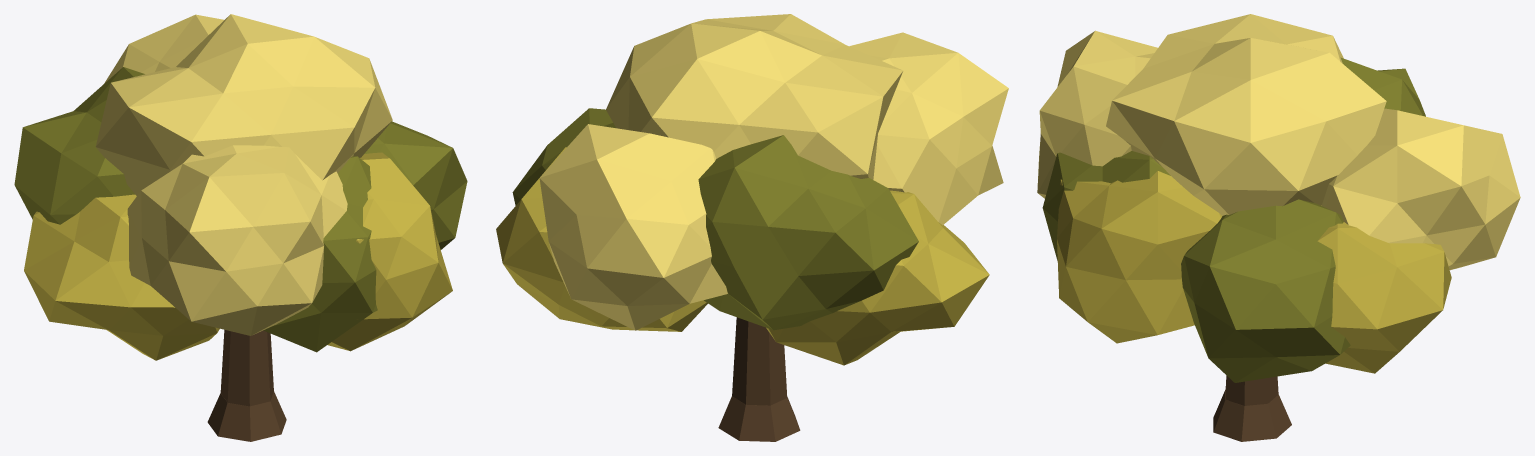
File: tree_oak_4.glb
3 renders of one model, left to right at view 1: azimuth 30°, elevation 25°; view 2: azimuth 150°, elevation 25°; view 3: azimuth 270°, elevation 25°, orthographic. The views are drawn at different scales.
Parts seen in each view (by area): view 1: tree_oak_4; view 2: tree_oak_4; view 3: tree_oak_4.
Part boxes in pixels (x1,y1,x2,y2): tree_oak_4: (14, 14, 467, 441); tree_oak_4: (496, 14, 1008, 441); tree_oak_4: (1037, 14, 1520, 441).
Size of what is drawn, in the model's own units: 8.07 by 7 by 7.92.
